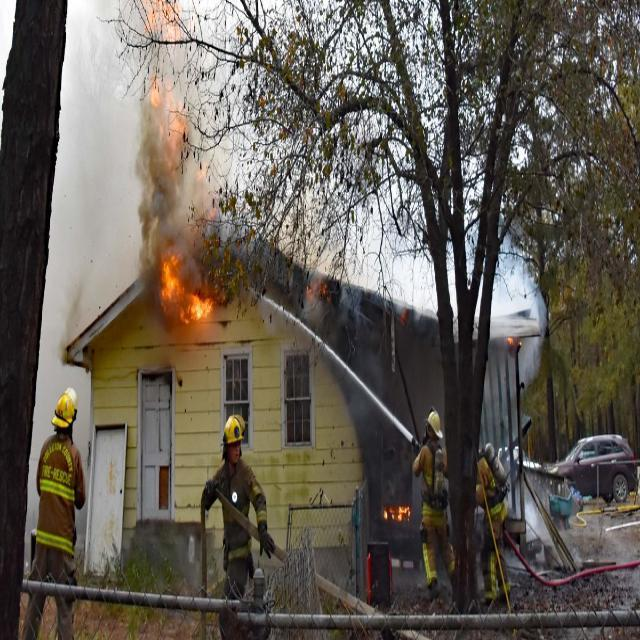Fire: (163, 266, 212, 324)
Smoke: (62, 111, 139, 292)
